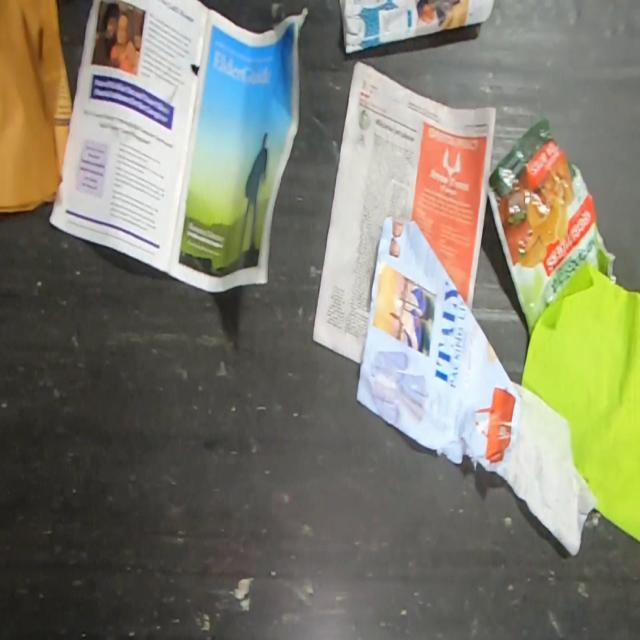soft_plastic: (487, 118, 618, 339)
